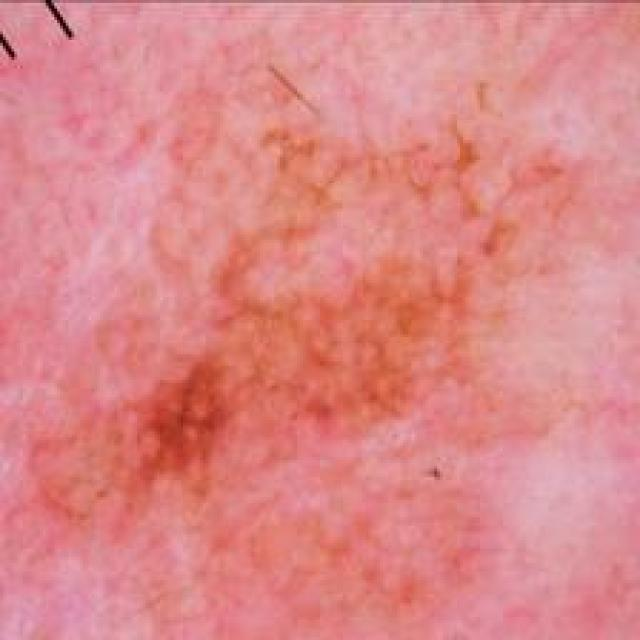Cancer: (23, 91, 581, 539)
